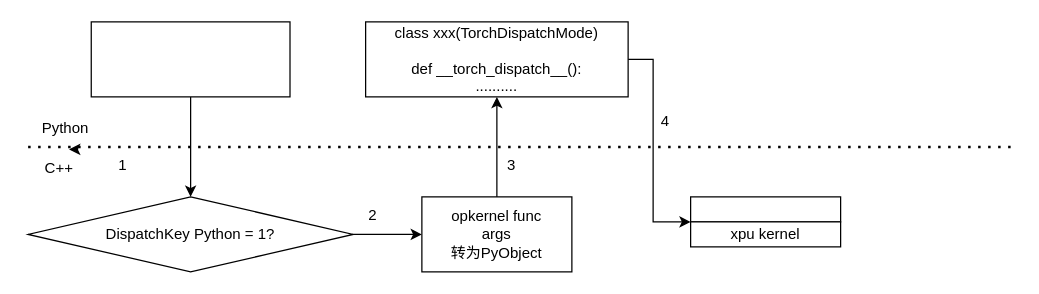
Image size: 1039x294. Some labels were removed from this diagram. The shapes that lost their labels are listed below. From the top down, each one's centre as x and y in pixels, then its label:
point 190,59: torch.add(a, b) torch.randperm(n, generator)
point 765,209: cpu kernel
